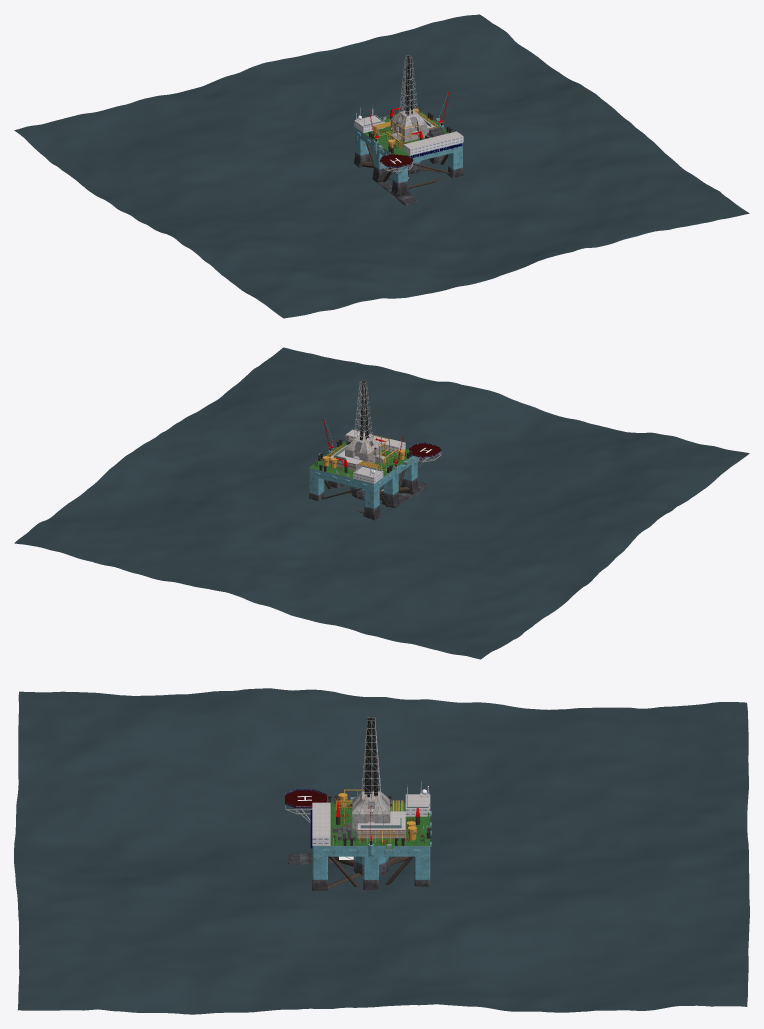
The model's file is oil_rig.glb.
3 renders of one model, top to bottom at view 1: azimuth 30°, elevation 25°; view 2: azimuth 150°, elevation 25°; view 3: azimuth 270°, elevation 25°, orthographic. The views are drawn at different scales.
Parts seen in each view (by area): view 1: pPlane2; view 2: pPlane2; view 3: pPlane2.
Boxes of the visible parts, x1,y1,x2,y2 form: pPlane2: (14,14,749,318); pPlane2: (14,347,749,659); pPlane2: (14,688,749,1014).
Bounding box in the file's own units: 4.62 × 1.41 × 4.63.
6 materials, 1 textured.
